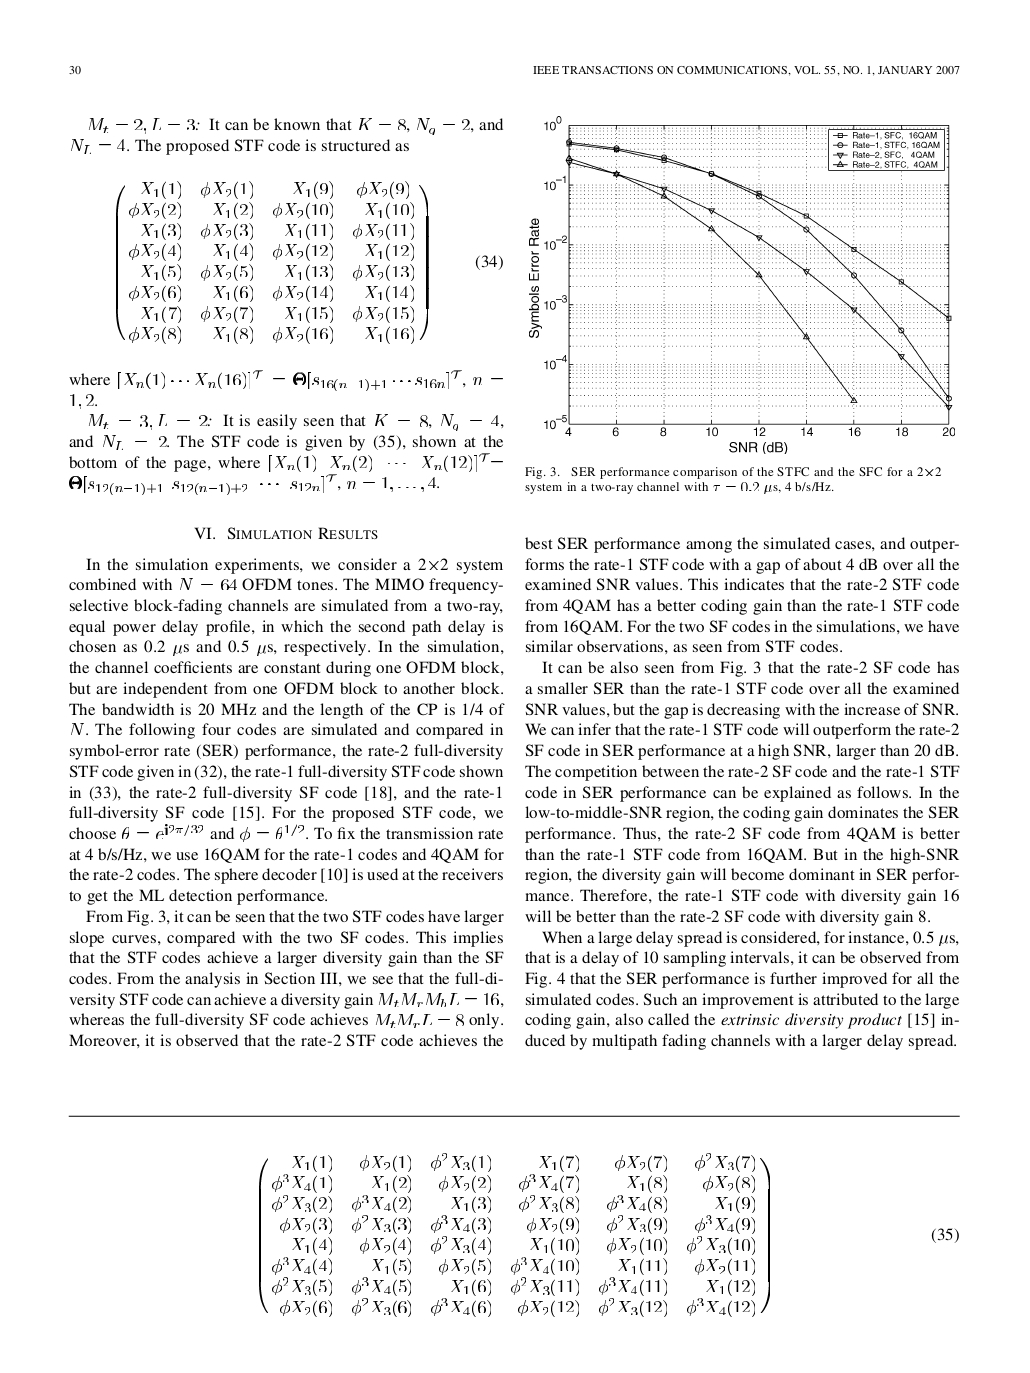figure: (529, 116, 954, 453)
formula: (259, 1152, 958, 1317), (116, 180, 502, 344), (69, 474, 438, 494)
